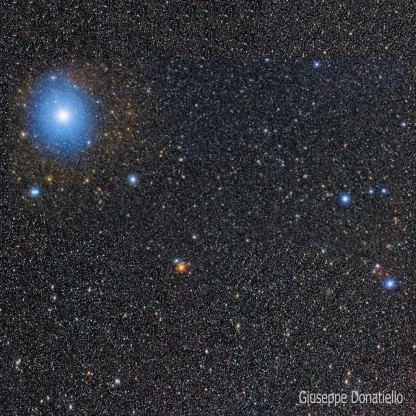Lyra: (24, 71, 101, 160), (167, 252, 195, 281), (335, 187, 357, 210), (22, 184, 43, 205), (122, 170, 141, 193), (380, 275, 399, 294)
